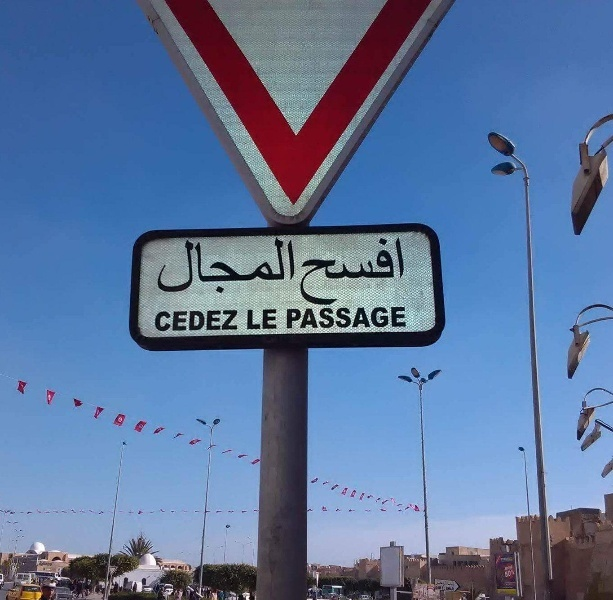text: (305, 236, 320, 306), (321, 236, 336, 306), (337, 236, 352, 306), (353, 236, 368, 306), (369, 236, 384, 306), (385, 236, 400, 306), (161, 236, 176, 295), (177, 236, 192, 295), (193, 236, 208, 295), (209, 236, 224, 295), (225, 236, 240, 295), (241, 236, 256, 295), (257, 236, 272, 295), (273, 236, 288, 295), (401, 236, 409, 306), (297, 236, 304, 306), (289, 236, 297, 295), (289, 306, 304, 330), (305, 306, 320, 330), (321, 306, 336, 330), (337, 306, 352, 330), (353, 306, 368, 330), (369, 306, 384, 330), (385, 306, 400, 330), (257, 308, 272, 330), (161, 309, 176, 331), (177, 309, 192, 331), (193, 309, 208, 331), (209, 309, 224, 331), (225, 309, 238, 331), (247, 308, 256, 330), (401, 306, 409, 330), (273, 308, 278, 330), (155, 309, 160, 331), (435, 585, 448, 591), (505, 568, 512, 579), (437, 581, 448, 587), (159, 236, 160, 295), (504, 564, 512, 571), (442, 585, 448, 592), (513, 568, 516, 579), (449, 582, 455, 587), (449, 587, 455, 592), (287, 306, 288, 330), (513, 564, 515, 571), (447, 587, 448, 592)
